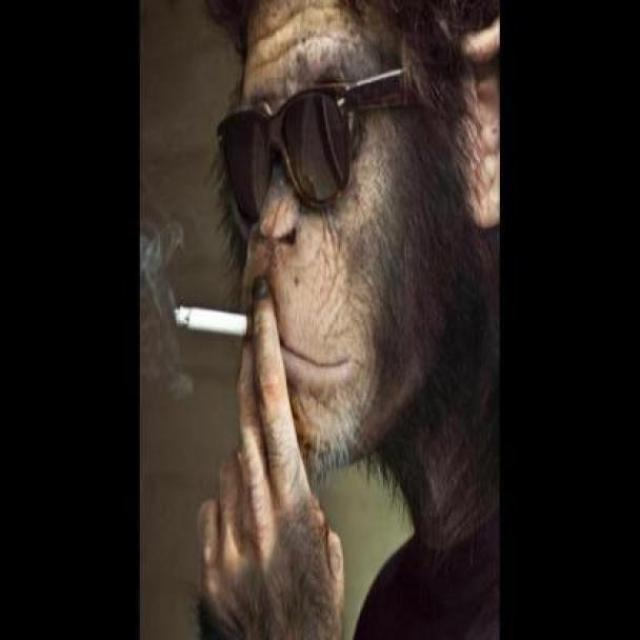rokok: (170, 296, 264, 348)
